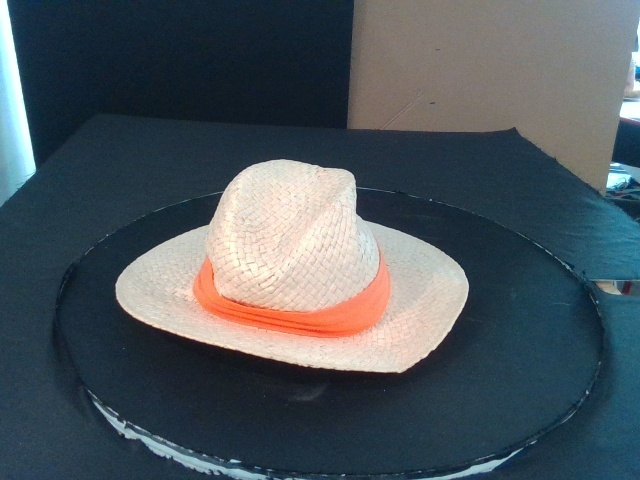hat: (115, 159, 469, 374)
